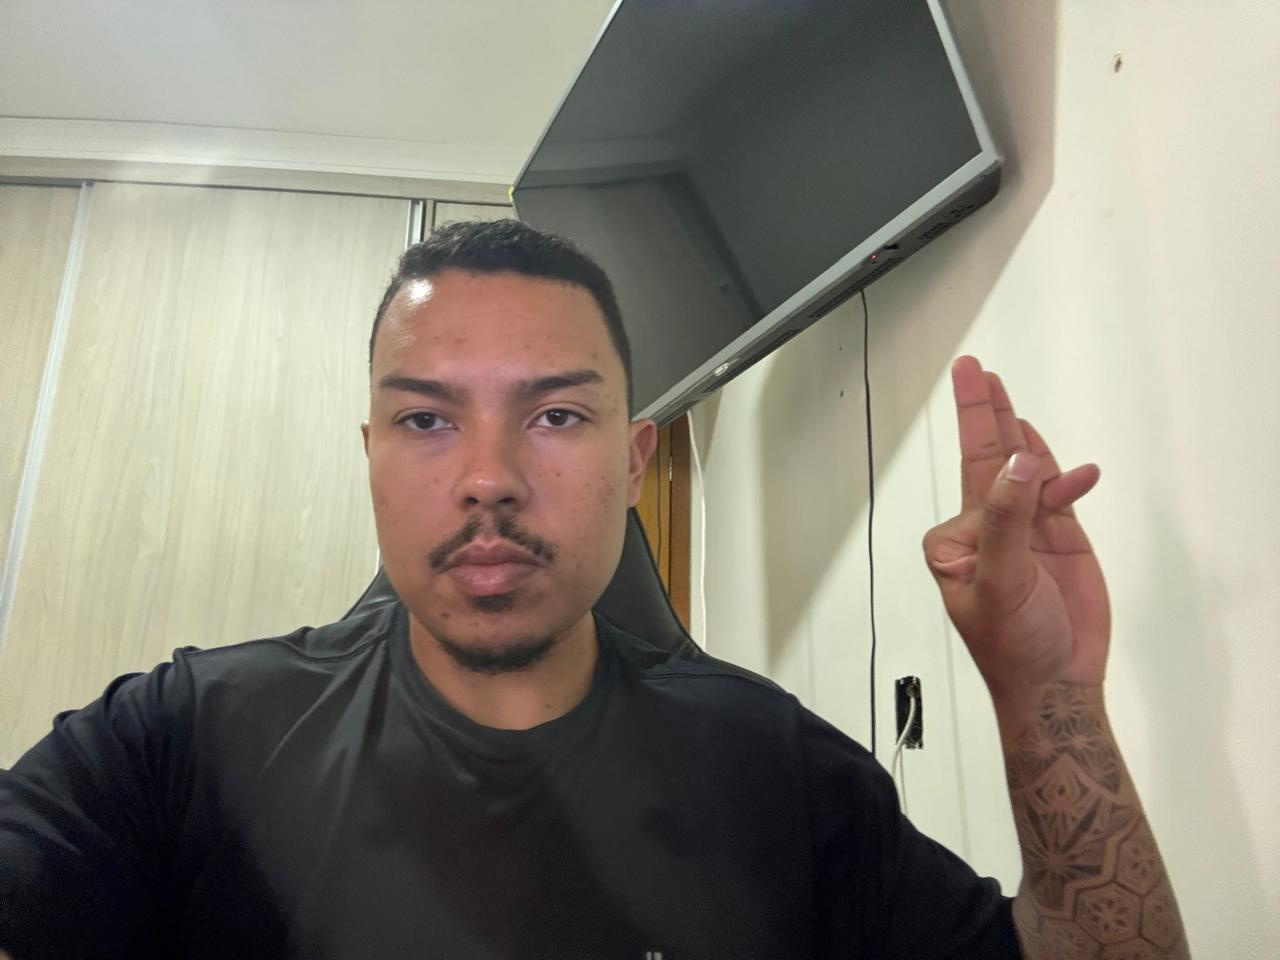t: (903, 348, 1152, 710)
